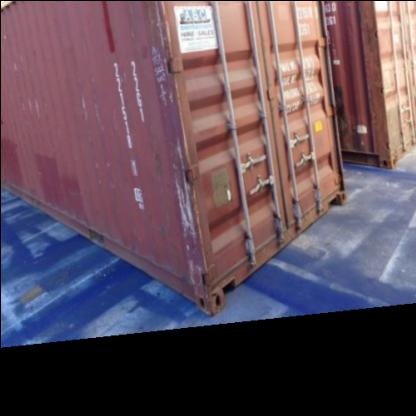Damage: (176, 140, 200, 244), (184, 249, 206, 287), (152, 4, 172, 44), (72, 84, 90, 127), (88, 99, 106, 132), (22, 94, 42, 114)
